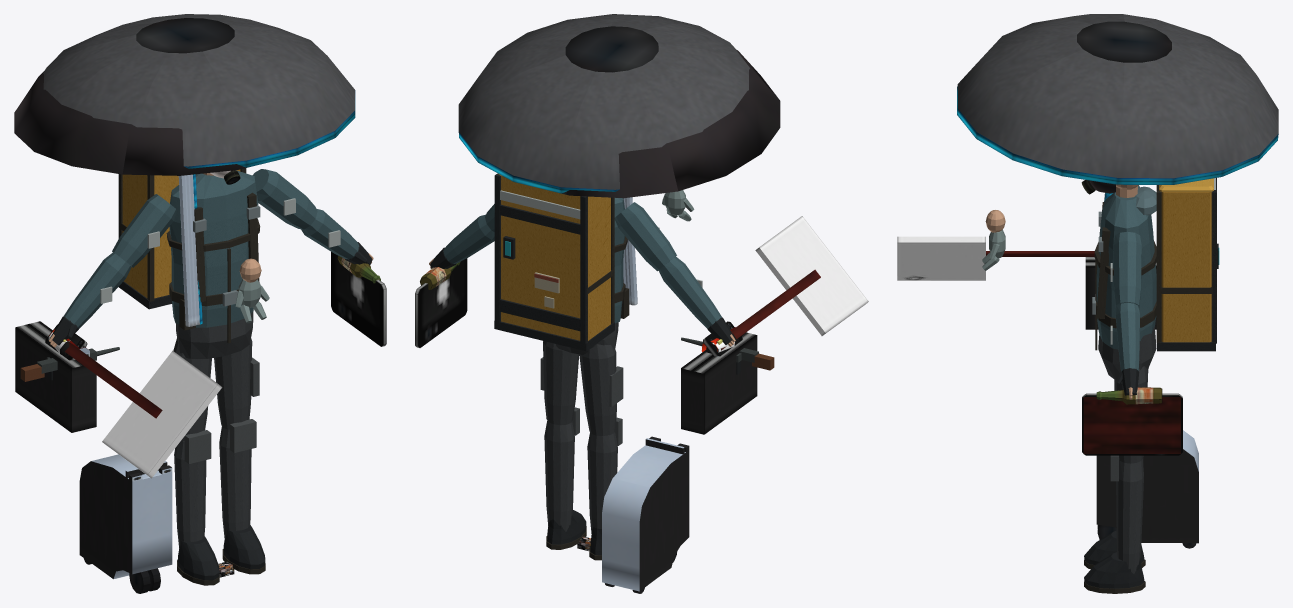
Rendered from civilian_courier_asian.dae.
3 renders of one model, left to right at view 1: azimuth 30°, elevation 25°; view 2: azimuth 150°, elevation 25°; view 3: azimuth 270°, elevation 25°, orthographic. The views are drawn at different scales.
Parts seen in each view (by area): view 1: Umbrella004, UpBody, Umbrella1, trolley, ProtestSign, Handbag, LowLeg2, LowLeg1, ShoppingBag, UpLeg2, center, UpArm1 (+11 smaller); view 2: Umbrella004, UpBody, trolley, Umbrella1, ProtestSign, Handbag, UpLeg1, LowLeg2, ShoppingBag, UpLeg2, LowLeg1, UpArm1 (+5 smaller); view 3: Umbrella004, UpBody, trolley, ShoppingBag, ProtestSign, LowLeg2, UpArm2, Feet2, LowArm2, center, SittingBaby, molotow (+2 smaller).
Boxes of the visible parts, x1,y1,x2,y2 form: Umbrella004: (43, 14, 355, 324); UpBody: (118, 168, 260, 343); Umbrella1: (14, 71, 244, 326); trolley: (79, 454, 172, 593); ProtestSign: (65, 340, 222, 478); Handbag: (15, 321, 96, 432); LowLeg2: (219, 419, 256, 540); LowLeg1: (174, 430, 211, 548); ShoppingBag: (331, 252, 386, 346); UpLeg2: (214, 338, 259, 429); center: (176, 312, 253, 358); UpArm1: (112, 194, 176, 267); Umbrella004: (458, 14, 749, 193); UpBody: (494, 173, 629, 351); trolley: (602, 436, 689, 593); Umbrella1: (564, 50, 780, 305); ProtestSign: (716, 216, 868, 350); Handbag: (681, 332, 757, 434); UpLeg1: (579, 344, 623, 435); LowLeg2: (544, 407, 579, 531); ShoppingBag: (415, 258, 467, 347); UpLeg2: (540, 341, 579, 425); LowLeg1: (587, 417, 622, 534); UpArm1: (614, 202, 676, 271); Umbrella004: (957, 14, 1278, 202); UpBody: (1092, 178, 1219, 351); trolley: (1096, 430, 1198, 548); ShoppingBag: (1082, 393, 1182, 455); ProtestSign: (897, 236, 1094, 280); LowLeg2: (1110, 455, 1143, 573); UpArm2: (1113, 231, 1141, 308); Feet2: (1084, 552, 1145, 593); LowArm2: (1115, 302, 1139, 371); center: (1098, 326, 1156, 380); SittingBaby: (982, 210, 1005, 270); molotow: (1096, 387, 1162, 404).
Bounding box in the file's own units: 944 × 1378 × 900.
1 material, 1 textured.
